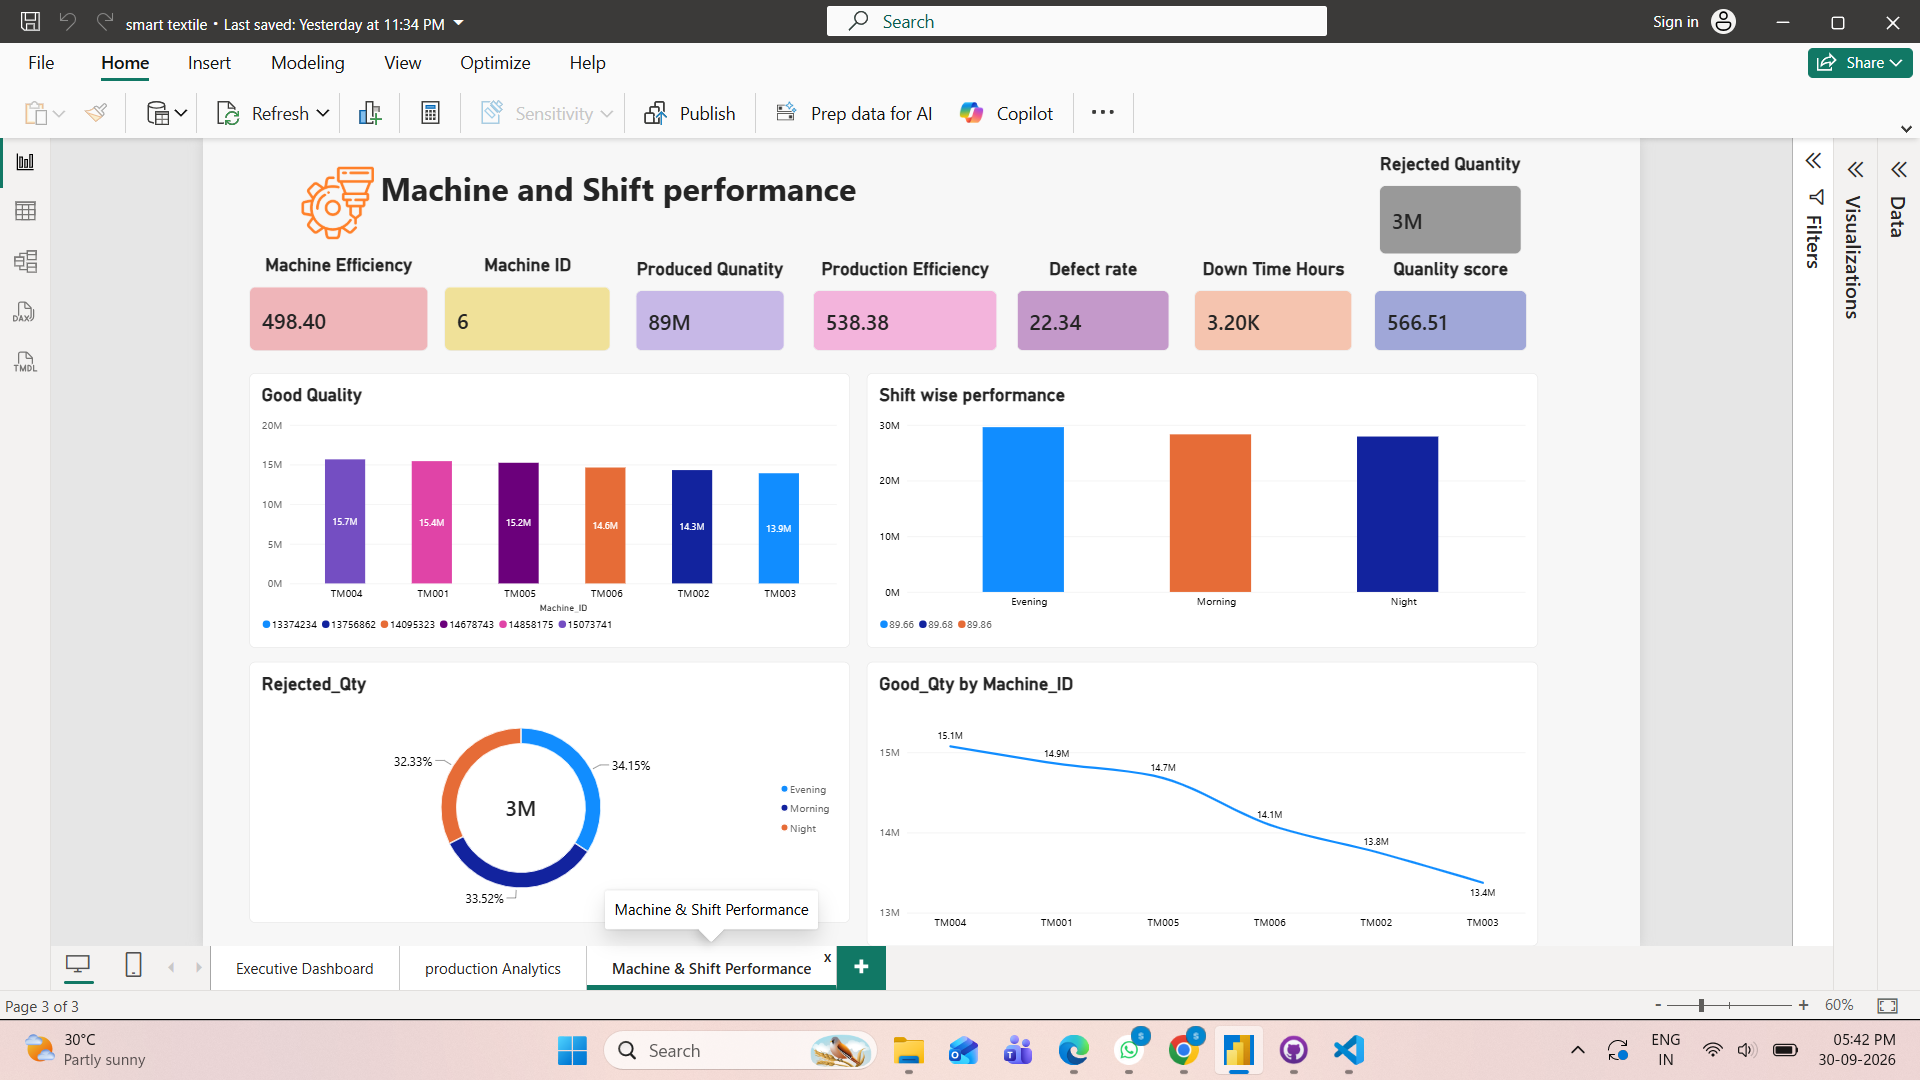

What the dashboard file says about the page in this screenshot:
{"tool":"powerbi","page":{"name":"Machine & Shift Performance","canvas":[1920,1080],"ordinal":2},"visuals":[{"type":"cardVisual","title":"Defect rate","fields":{"Data":["Sum(Machine_Analysis.Defect_Rate)"]},"box":[1087.2,160.8,204.6,124.2],"z":0},{"type":"cardVisual","title":"Machine Efficiency ","fields":{"Data":["Sum(Machine_Analysis.Machine_Efficiency)"]},"box":[62.1,155.3,239.4,129.7],"z":1000},{"type":"cardVisual","title":"Quanlity score","fields":{"Data":["Sum(Machine_Analysis.Quality_Score)"]},"box":[1564.1,160.8,204.6,124.2],"z":2000},{"type":"columnChart","title":"Good Quality ","fields":{"Category":["Machine_Analysis.Machine_ID"],"Y":["Sum(Machine_Analysis.Produced_Qty)"],"Series":["Machine_Analysis.Good_Qty"]},"box":[62.1,314.3,802.1,367.3],"z":3000},{"type":"cardVisual","title":"Produced Qunatity","fields":{"Data":["Sum(Machine_Analysis.Produced_Qty)"]},"box":[577.4,160.8,199.2,124.2],"z":4000},{"type":"cardVisual","title":"Production Efficiency ","fields":{"Data":["Sum(Machine_Analysis.Production_Efficiency)"]},"box":[814.9,160.8,246.7,124.2],"z":5000},{"type":"cardVisual","title":"Machine ID","fields":{"Data":["CountNonNull(Machine_Analysis.Machine_ID)"]},"box":[321.6,155.3,222.9,129.7],"z":6000},{"type":"cardVisual","title":"Down Time Hours","fields":{"Data":["Sum(Machine_Analysis.Downtime_Hours)"]},"box":[1324.7,160.8,212,124.2],"z":7000},{"type":"cardVisual","title":"Rejected Quantity","fields":{"Data":["Sum(Machine_Analysis.Rejected_Qty)"]},"box":[1571.4,20.1,190,135.2],"z":8000},{"type":"textbox","box":[85.9,38.4,873.4,142.5],"z":9000},{"type":"image","box":[124.2,38.4,113.3,96.8],"z":10000},{"type":"columnChart","title":"Shift wise performance ","fields":{"Category":["Shift_Analysis.Shift"],"Y":["Sum(Shift_Analysis.Good_Qty)"],"Series":["Shift_Analysis.Production_Efficiency"]},"box":[886.2,314.3,897.1,367.3],"z":11000},{"type":"donutChart","title":"Rejected_Qty","fields":{"Category":["Shift_Analysis.Shift"],"Y":["Sum(Shift_Analysis.Rejected_Qty)"]},"box":[62.1,699.8,802.1,349],"z":11001},{"type":"lineChart","title":"Good_Qty by Machine_ID","fields":{"Y":["Sum(Machine_Analysis.Good_Qty)"],"Category":["Machine_Analysis.Machine_ID"]},"box":[886.2,699.8,897.1,380.1],"z":11002}]}

Visuals, with their boxes on the page's 1920x1080 design canvas (x1, y1, x2, y2). These are canvas units, not pixel positions in the 1920x1080 screenshot, which may show the page scaled, cropped or inside an application window:
"Defect rate" cardVisual: (1087,161,1292,285)
"Machine Efficiency " cardVisual: (62,155,302,285)
"Quanlity score" cardVisual: (1564,161,1769,285)
"Good Quality " columnChart: (62,314,864,682)
"Produced Qunatity" cardVisual: (577,161,777,285)
"Production Efficiency " cardVisual: (815,161,1062,285)
"Machine ID" cardVisual: (322,155,544,285)
"Down Time Hours" cardVisual: (1325,161,1537,285)
"Rejected Quantity" cardVisual: (1571,20,1761,155)
textbox: (86,38,959,181)
image: (124,38,238,135)
"Shift wise performance " columnChart: (886,314,1783,682)
"Rejected_Qty" donutChart: (62,700,864,1049)
"Good_Qty by Machine_ID" lineChart: (886,700,1783,1080)
